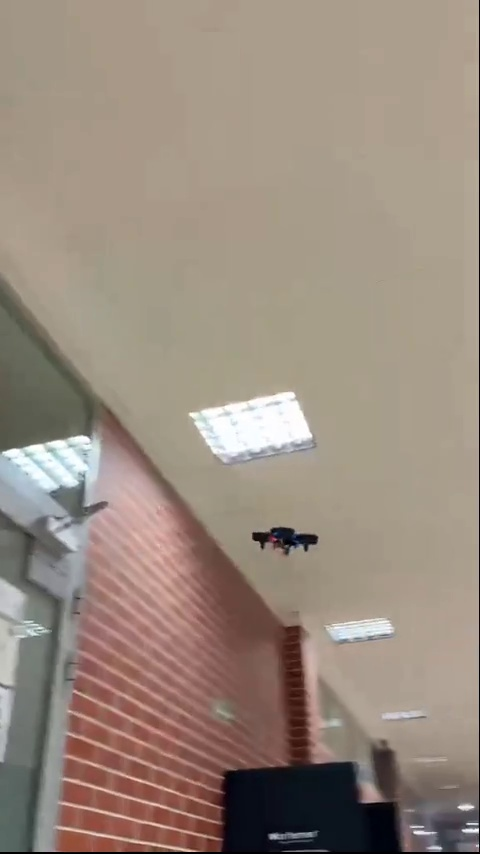drone: (248, 518, 318, 560)
